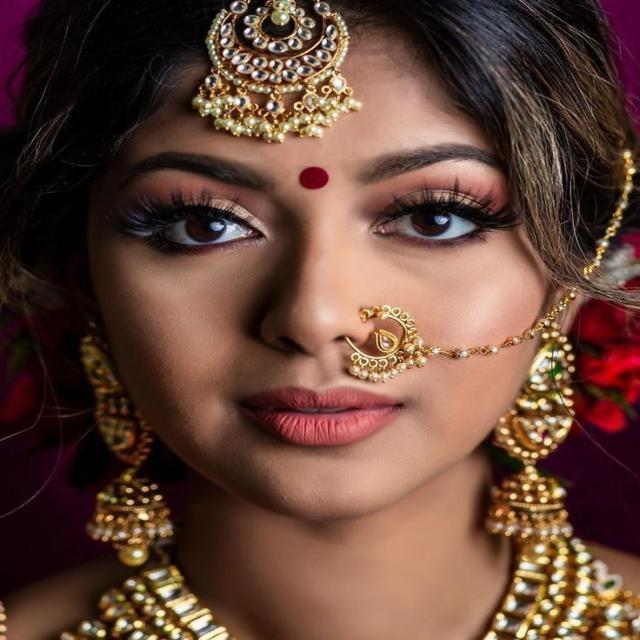Earring: (480, 272, 600, 573), (56, 316, 184, 582)
